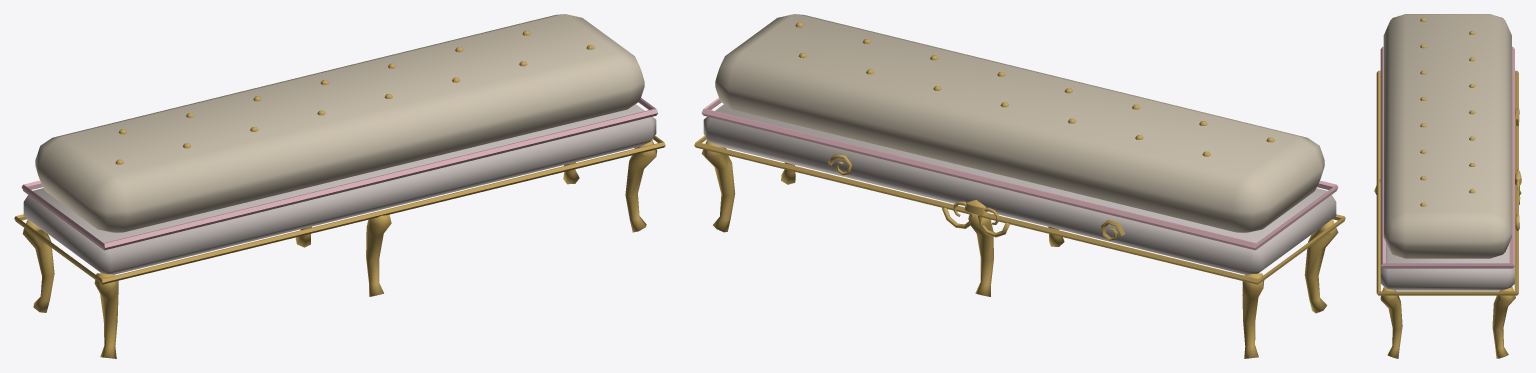
File: bed_bench.glb
The picture shows the model from 3 angles, left to right: view 1: azimuth 30°, elevation 25°; view 2: azimuth 150°, elevation 25°; view 3: azimuth 270°, elevation 25°; orthographic projection. The views are drawn at different scales.
Visible parts, largest first — view 1: bed_bench; view 2: bed_bench; view 3: bed_bench.
Part boxes in pixels (x1=…): bed_bench: x1=14, y1=14, x2=665, y2=358; bed_bench: x1=694, y1=14, x2=1345, y2=358; bed_bench: x1=1374, y1=14, x2=1521, y2=358.
Size of what is drawn, in the model's own units: 1.7 by 0.52 by 0.48.
